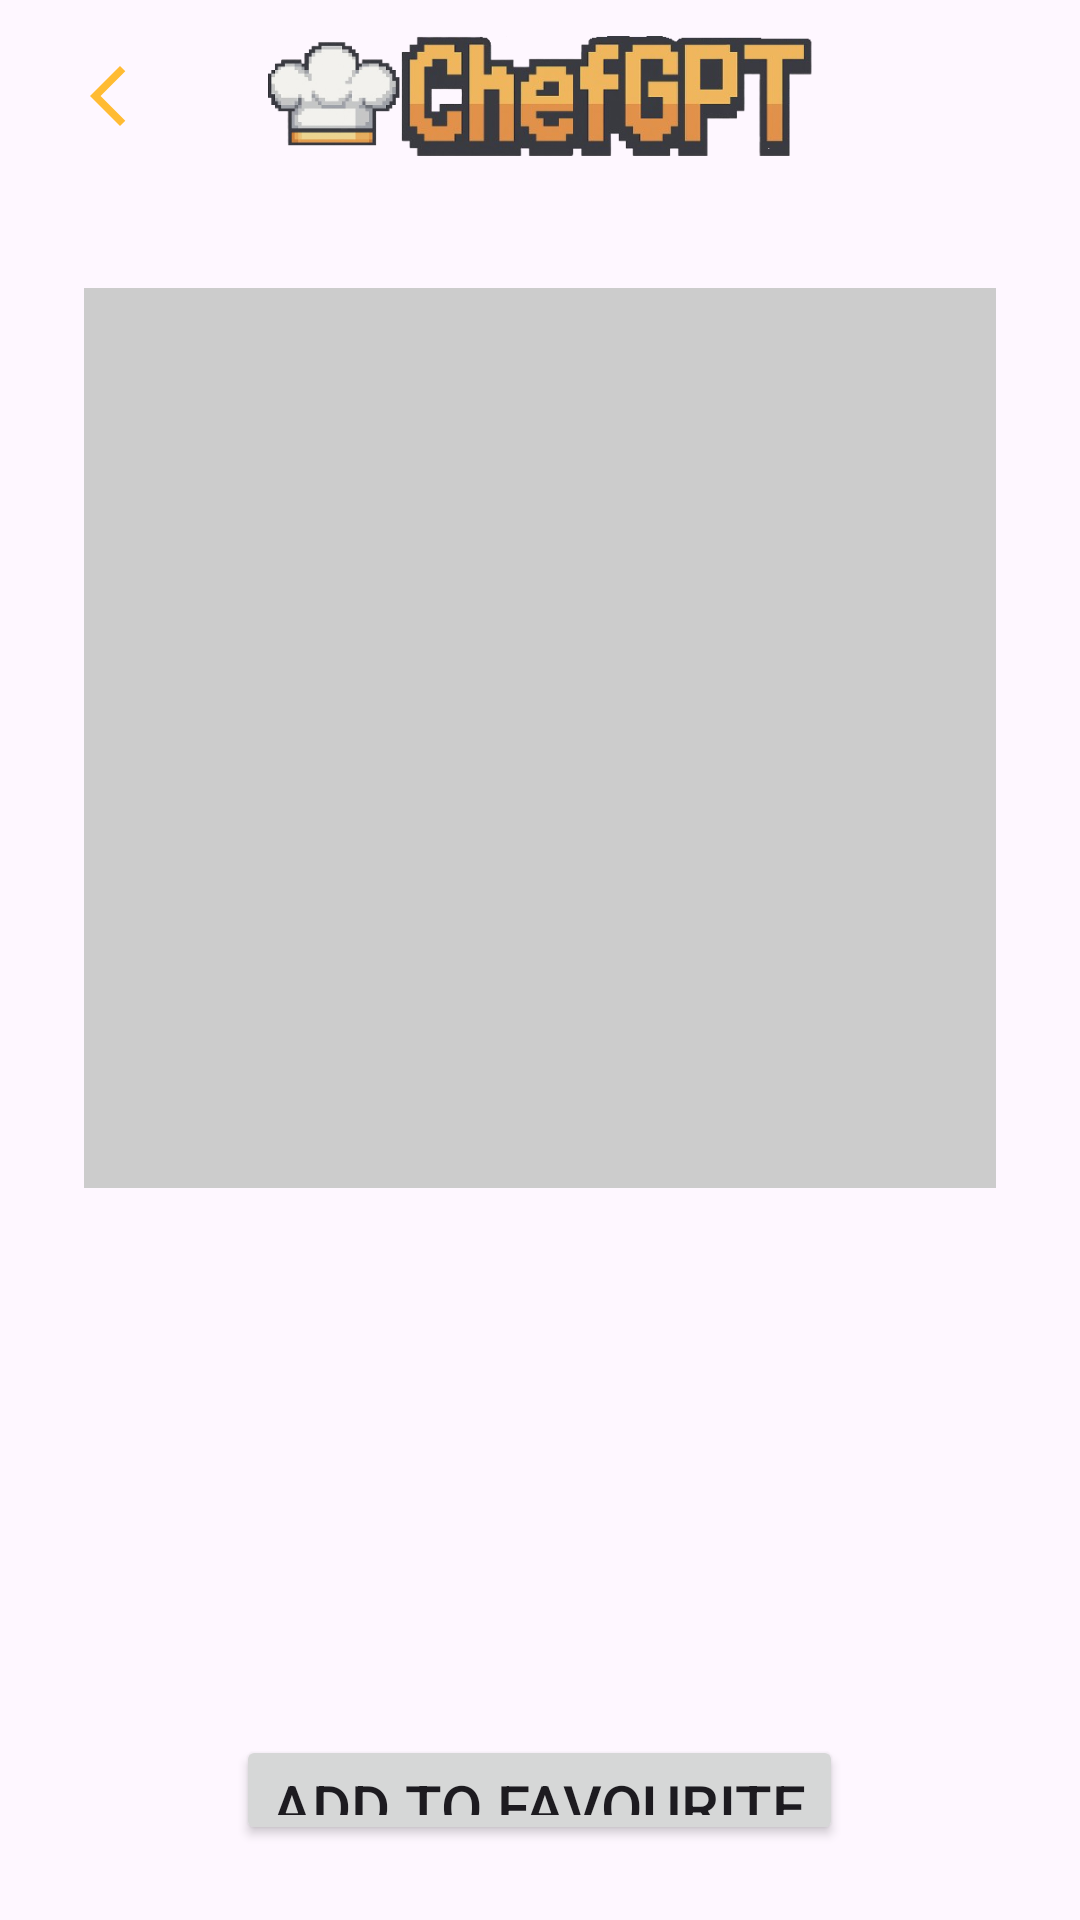

Icons on this 1080 × 1920 Android screen, each with its box as [x1=x1, y1=y1, x2=x2, y2=y2]:
back: [x1=90, y1=66, x2=125, y2=126]
